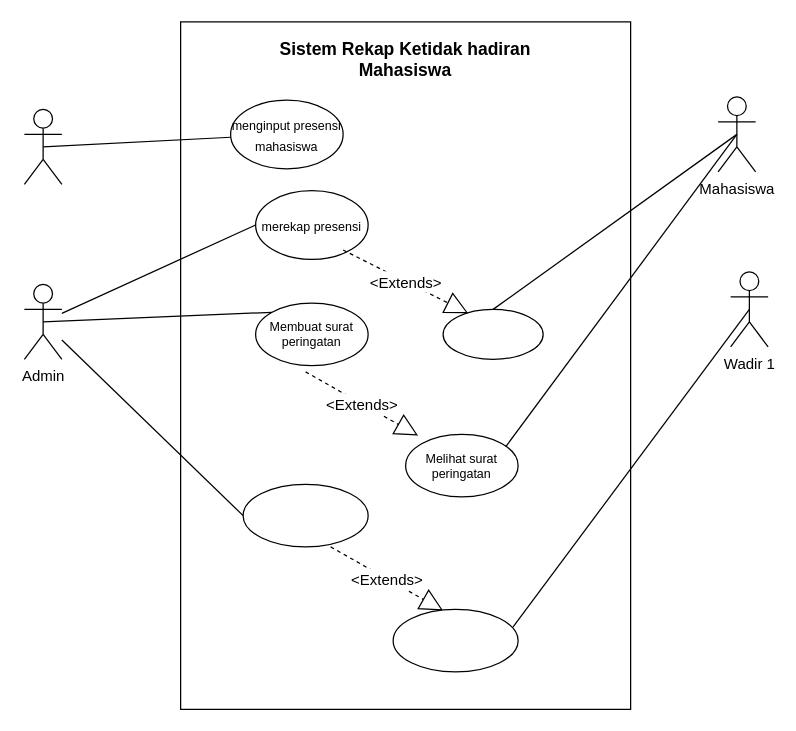
This 796x731 diagram has some shape labels left out. Here are the shapes that lost their labels. From the top down, the box of each, then its label:
(23, 108, 62, 184): Dosen
(442, 308, 543, 359): melihat rekap presensi
(242, 483, 368, 547): Membuat statistik presensi
(392, 608, 518, 672): Melihat statistik presensi
